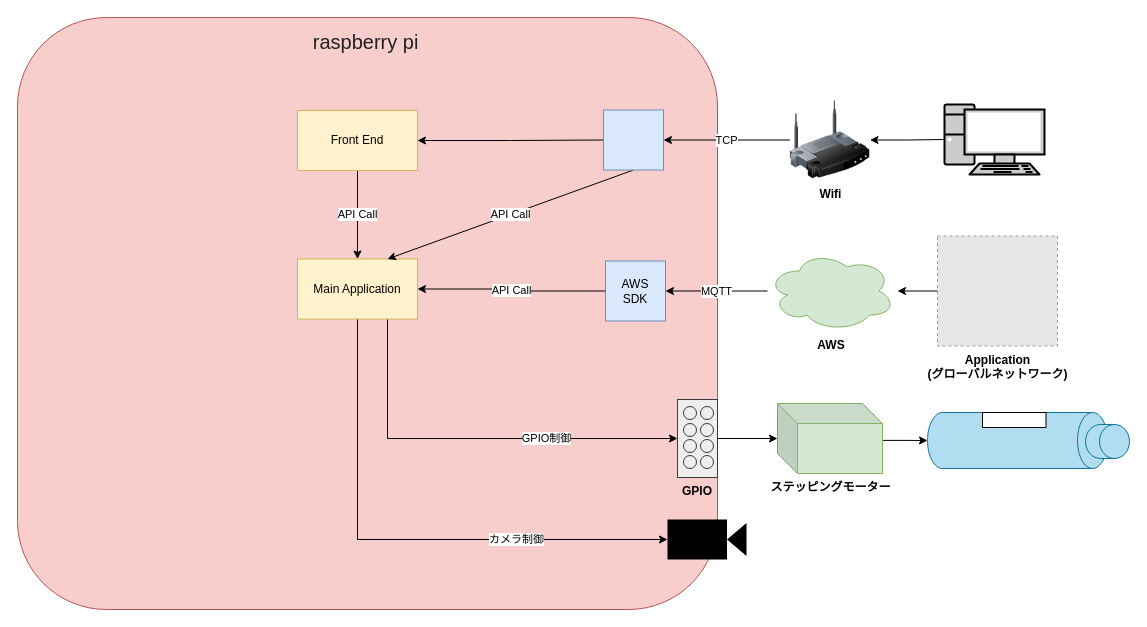
Image size: 1147x627. Some labels were removed from this diagram. Grey dashed boxes stand in for pictures. Here are the shapes that lost their labels. From the top down, the box of each, then its label:
(602, 109, 664, 170): nginx
(943, 103, 1045, 175): WebView (ローカルネットワーク)
(926, 412, 1108, 468): 穴あきPETボトル in 餌
(667, 519, 746, 559): Camera
